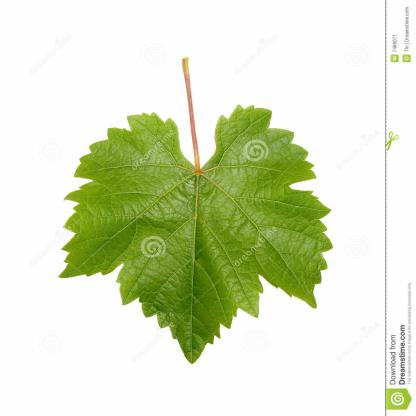grape leaf: (46, 93, 343, 372)
